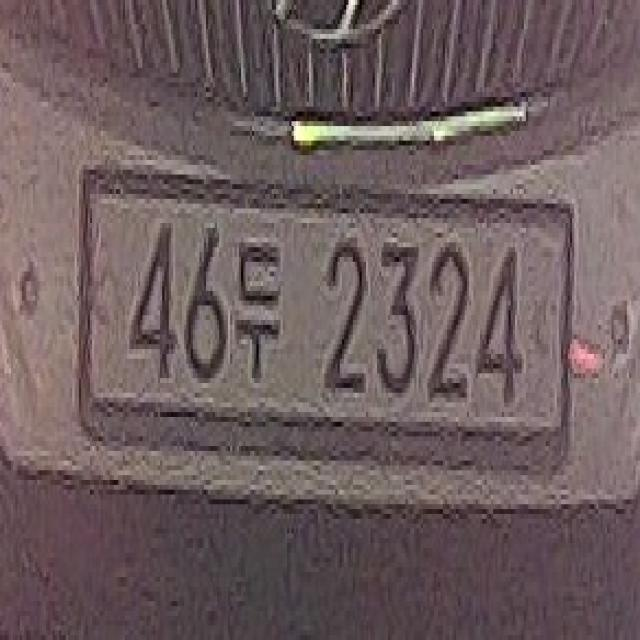2: (318, 237, 374, 405), (424, 240, 474, 407)
3: (376, 235, 422, 398)
4: (122, 212, 180, 402), (478, 241, 526, 416)
6: (182, 216, 236, 396)
du: (230, 231, 289, 392)
license_plate: (67, 132, 584, 482)
